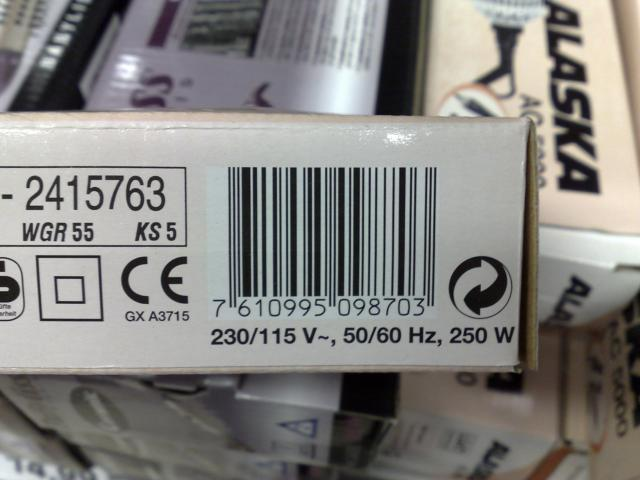Barcode: (203, 156, 445, 323)
